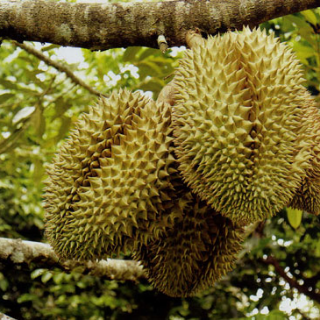sau_rieng: (166, 25, 315, 229), (40, 83, 175, 267)
